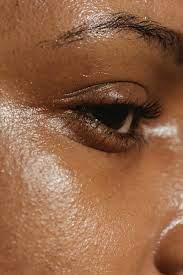Oily-Skin: (10, 138, 82, 249), (149, 118, 178, 142)
